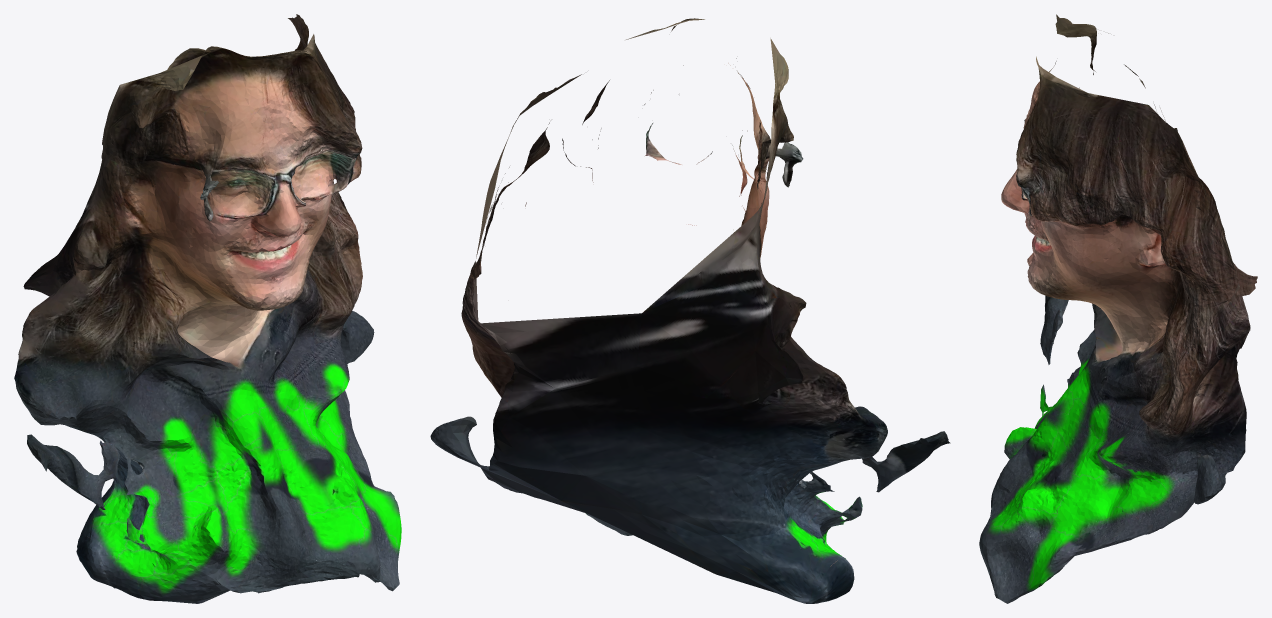
Rendered from jaxsen-transformed.glb.
The picture shows the model from 3 angles, left to right: view 1: azimuth 30°, elevation 25°; view 2: azimuth 150°, elevation 25°; view 3: azimuth 270°, elevation 25°; orthographic projection. The views are drawn at different scales.
Visible parts, largest first — view 1: Mesh_0; view 2: Mesh_0; view 3: Mesh_0.
Part boxes in pixels (x1=…): Mesh_0: x1=14, y1=14, x2=401, y2=603; Mesh_0: x1=430, y1=18, x2=950, y2=603; Mesh_0: x1=979, y1=14, x2=1257, y2=603.
Bounding box in the file's own units: 4.5 × 5.6 × 2.76.
Materials: 1 (1 with a texture image).
